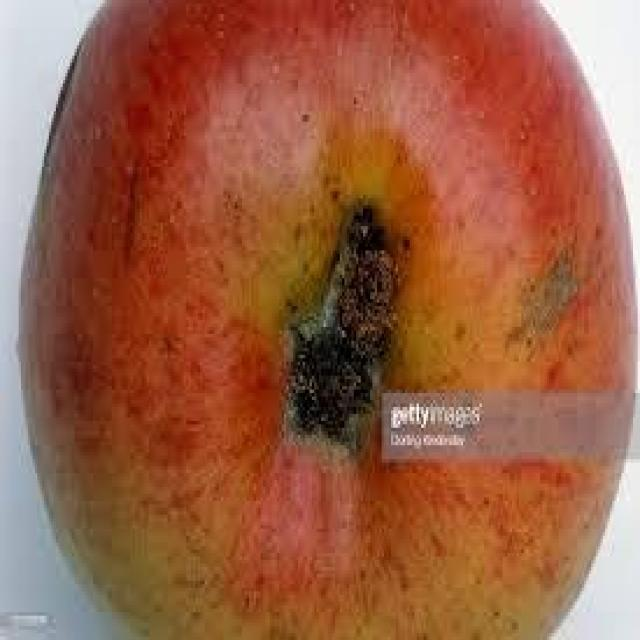Apple: (15, 0, 640, 640)
